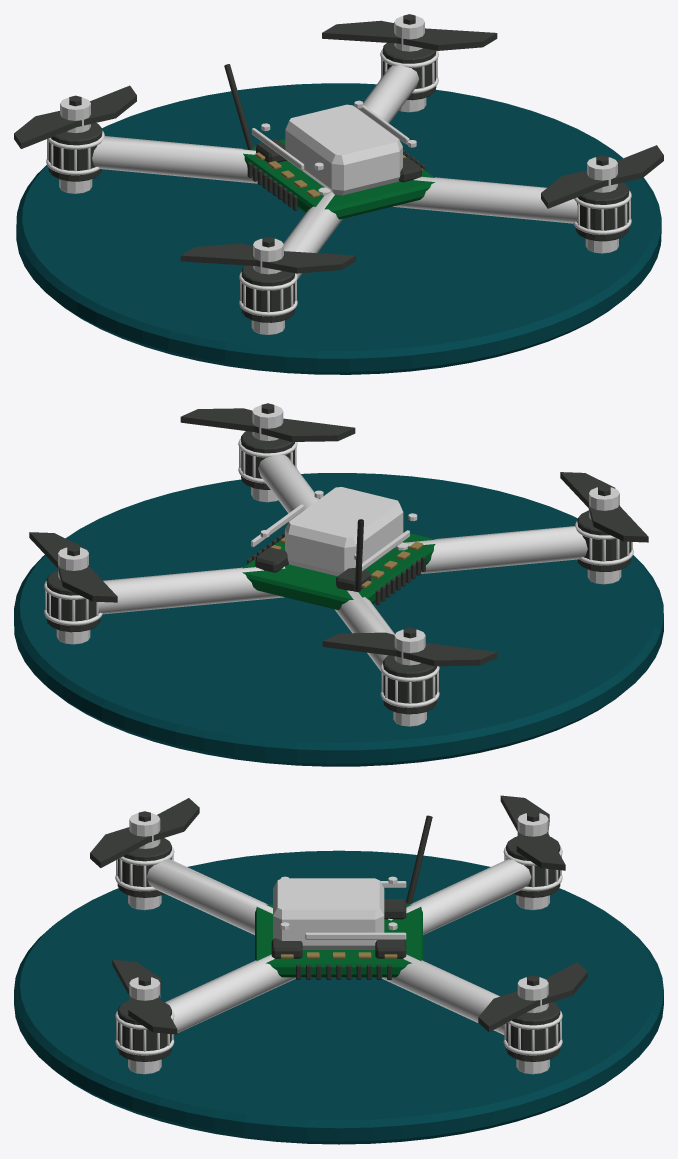
The model's file is bitcraze-crazyflie-2-1.glb.
3 renders of one model, top to bottom at view 1: azimuth 30°, elevation 25°; view 2: azimuth 150°, elevation 25°; view 3: azimuth 270°, elevation 25°, orthographic.
Parts seen in each view (by area): view 1: pedestal, body; view 2: pedestal, body; view 3: pedestal, body.
Part boxes in pixels (left/top/right/bottom): pedestal: left=16, top=83, right=661, bottom=374; body: left=14, top=14, right=663, bottom=334; pedestal: left=14, top=473, right=663, bottom=766; body: left=29, top=403, right=648, bottom=726; pedestal: left=14, top=850, right=663, bottom=1144; body: left=90, top=795, right=587, bottom=1074.
Size of the model in its own units: 4.4 by 1.2 by 4.4.
